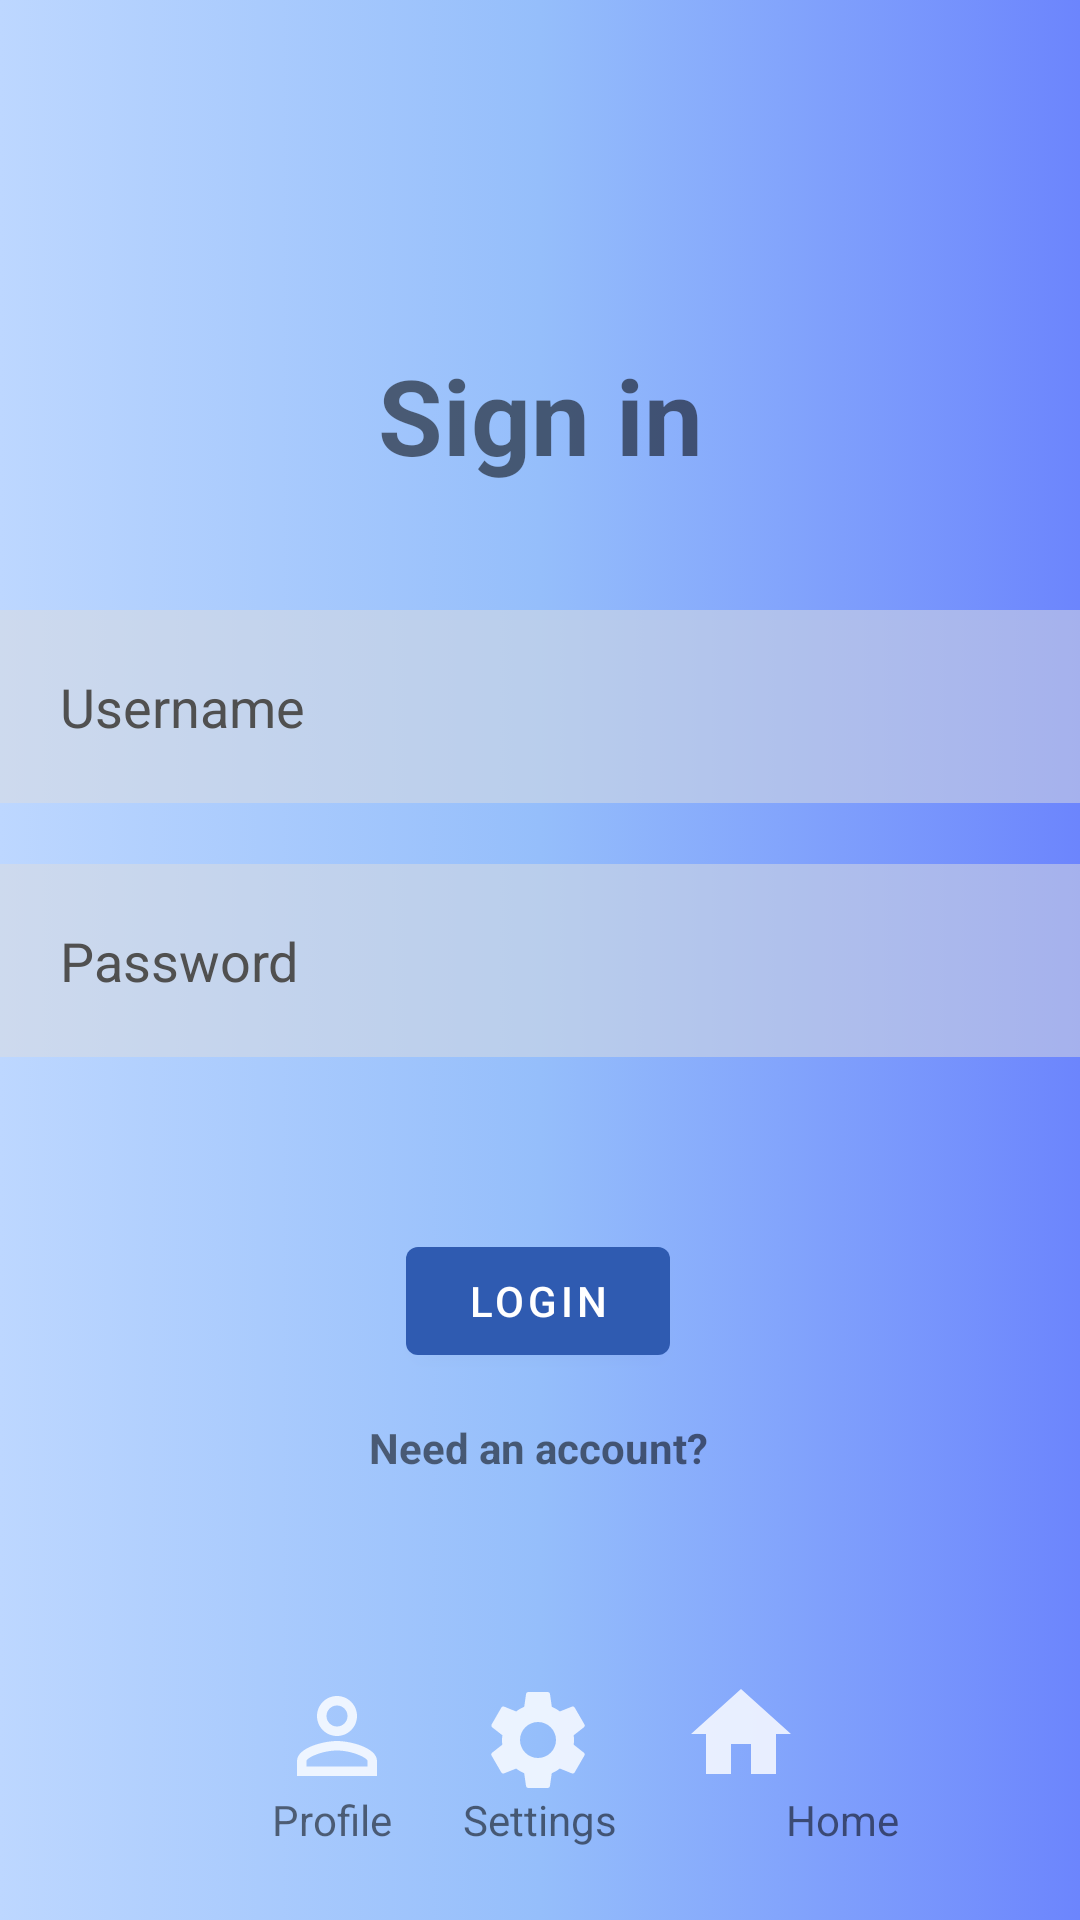

Icons on this 1080 × 1920 Android screen, each with the point to tap as (x=x, y=y):
person: (x=337, y=1736)
